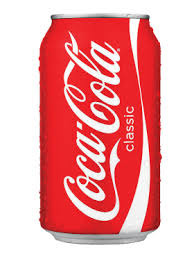coke: (39, 13, 160, 245)
